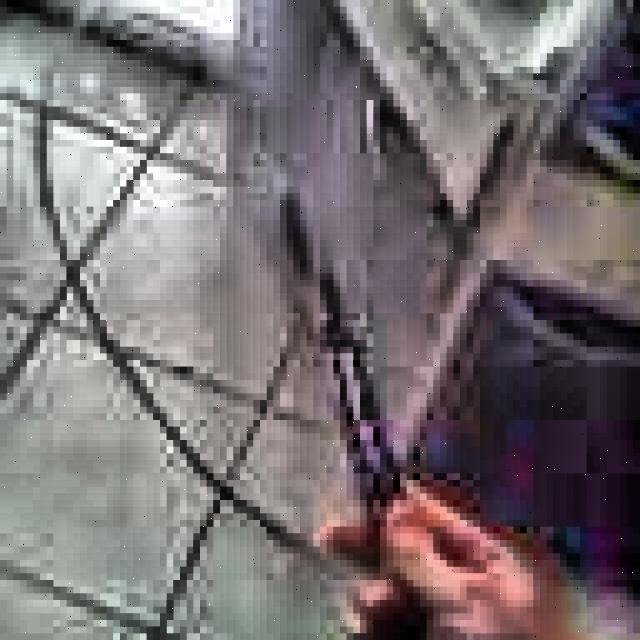knife: (274, 188, 402, 520)
